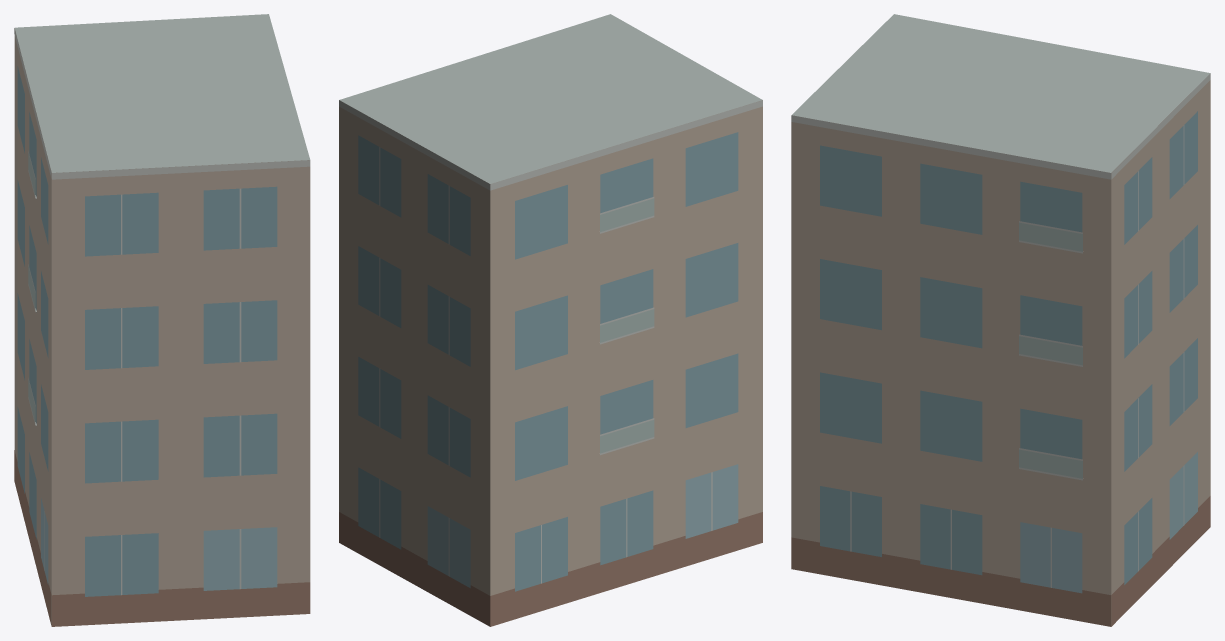
Rendered from survey-upis-32522904.glb.
3 renders of one model, left to right at view 1: azimuth 30°, elevation 25°; view 2: azimuth 150°, elevation 25°; view 3: azimuth 270°, elevation 25°, orthographic. The views are drawn at different scales.
Visible parts, largest first — view 1: survey-upis-32522904.tmp; view 2: survey-upis-32522904.tmp; view 3: survey-upis-32522904.tmp.
Boxes of the visible parts, x1,y1,x2,y2 form: survey-upis-32522904.tmp: (14, 14, 310, 626); survey-upis-32522904.tmp: (339, 14, 762, 626); survey-upis-32522904.tmp: (791, 14, 1210, 626).
Bounding box in the file's own units: 12.48 × 16.6 × 13.9.
